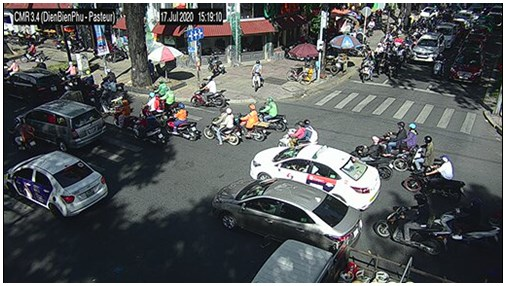xe_hoi: (201, 174, 362, 251), (249, 145, 381, 211), (6, 152, 108, 217), (20, 101, 104, 151), (6, 69, 64, 103), (450, 47, 485, 84), (411, 32, 445, 67), (437, 24, 458, 48), (468, 25, 489, 43), (462, 36, 484, 53)
xe_may: (374, 193, 443, 255), (434, 198, 500, 250), (403, 155, 466, 202), (352, 135, 394, 178), (373, 121, 420, 156), (396, 136, 444, 170), (204, 106, 242, 146), (164, 103, 201, 142), (190, 75, 229, 107), (236, 104, 269, 141), (133, 110, 165, 146), (277, 119, 319, 146), (258, 98, 288, 132), (13, 115, 39, 153), (113, 100, 136, 129), (142, 91, 164, 118), (358, 49, 374, 84), (249, 59, 263, 91), (161, 87, 178, 110), (101, 69, 119, 90), (433, 51, 446, 76), (388, 52, 399, 79), (378, 49, 388, 76)
xe_tai: (250, 239, 457, 283)
